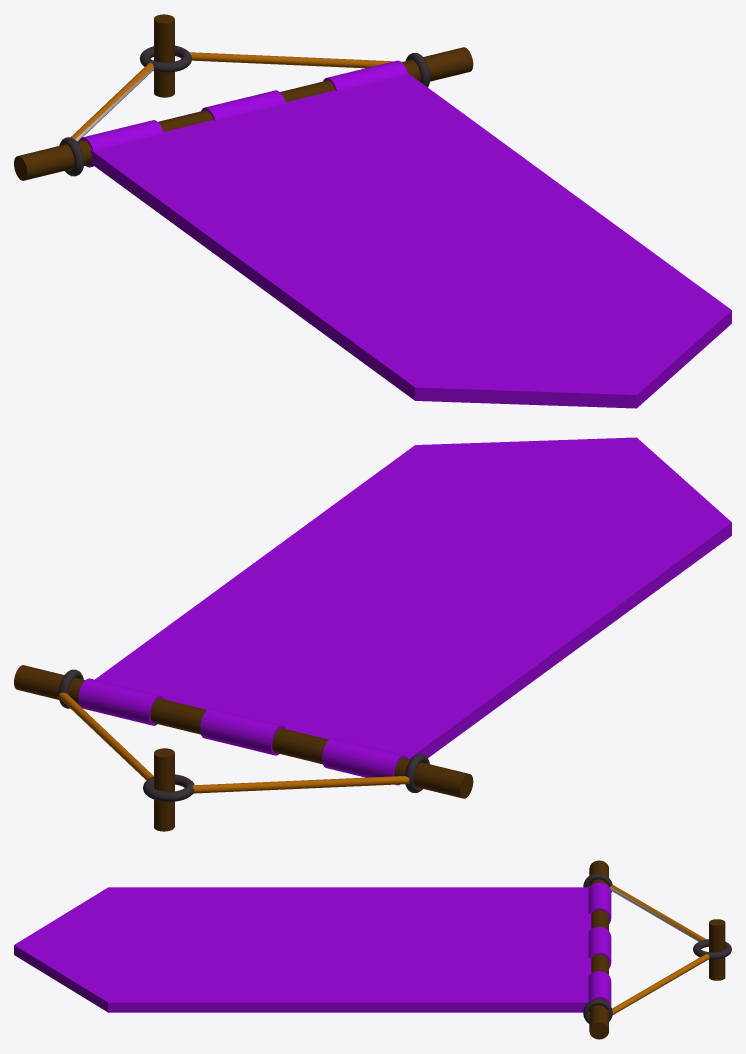
Rendered from Banner.fbx.
The picture shows the model from 3 angles, top to bottom: view 1: azimuth 30°, elevation 25°; view 2: azimuth 150°, elevation 25°; view 3: azimuth 270°, elevation 25°; orthographic projection. The views are drawn at different scales.
Parts seen in each view (by area): view 1: Cube; view 2: Cube; view 3: Cube.
Part boxes in pixels (bbox=[...]): Cube: bbox=[14, 14, 731, 408]; Cube: bbox=[14, 437, 731, 831]; Cube: bbox=[14, 860, 731, 1039].
Bounding box in the file's own units: 0.7907 × 0.1255 × 1.48.
